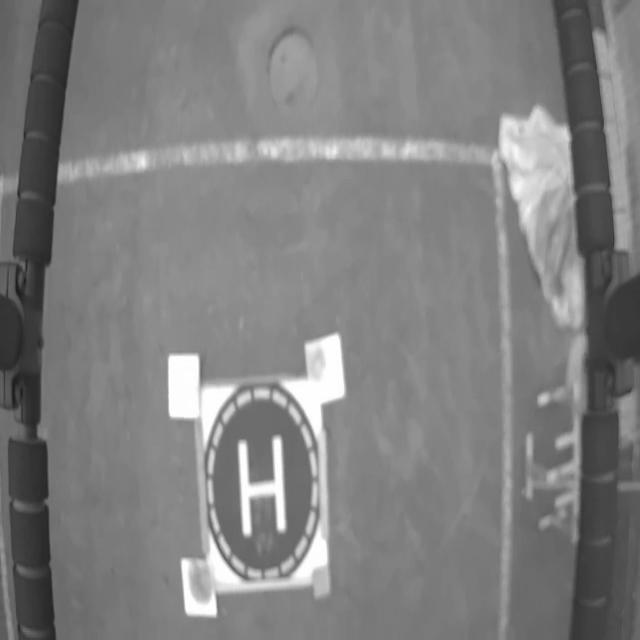Helipad: (237, 435, 287, 538)
